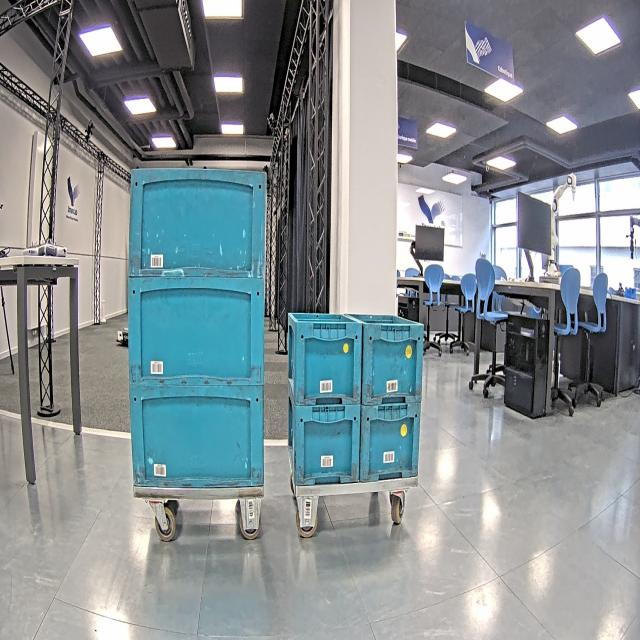BoxB4: (128, 275, 267, 390), (128, 166, 267, 280), (129, 386, 266, 489)
BoxB8: (286, 311, 363, 404), (286, 397, 362, 488), (350, 313, 424, 405), (360, 406, 422, 481)
